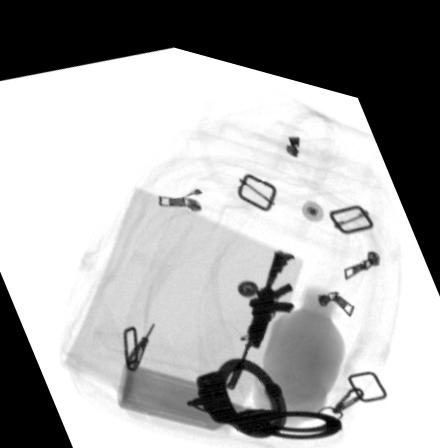Gun: (223, 230, 296, 379)
HandCuffs: (184, 344, 342, 424)
